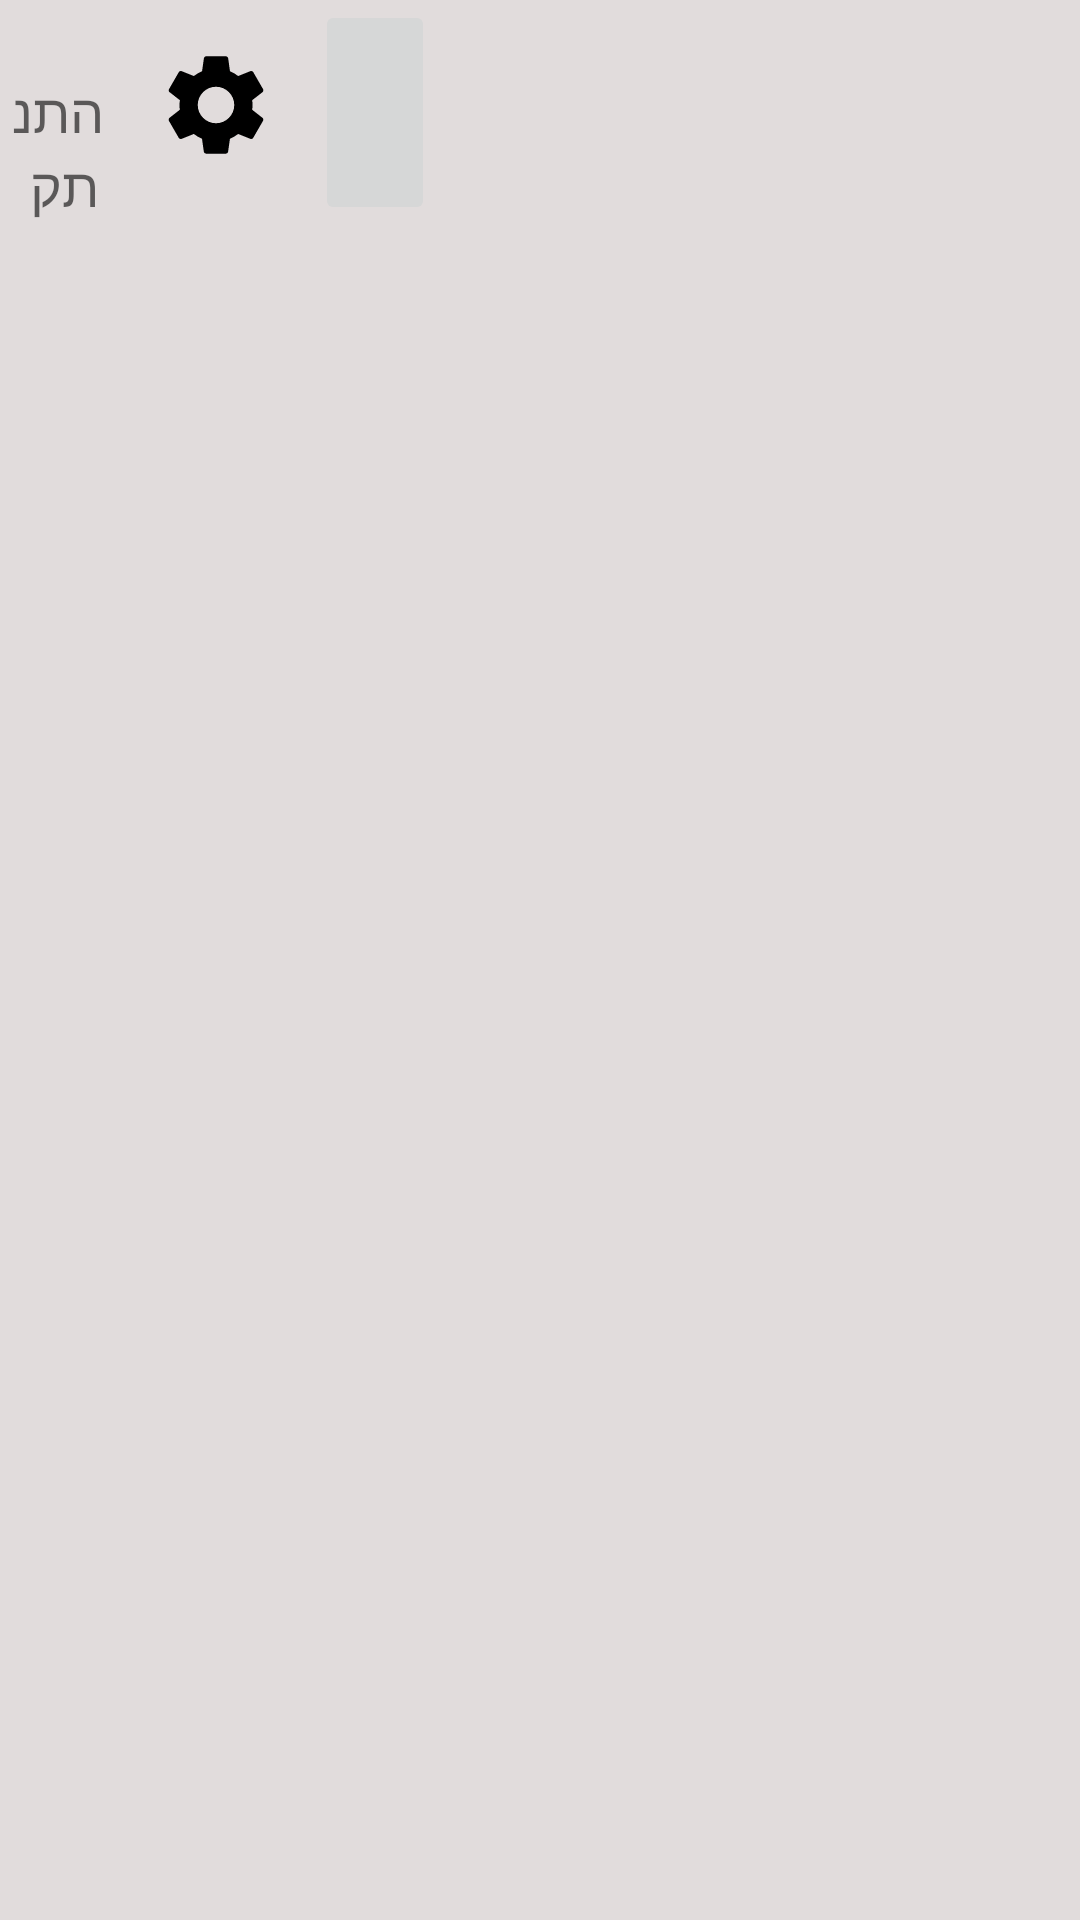

Icon click points for this 1080w x 1920h phone screenshot, format (x,y):
settings: (216,105)
